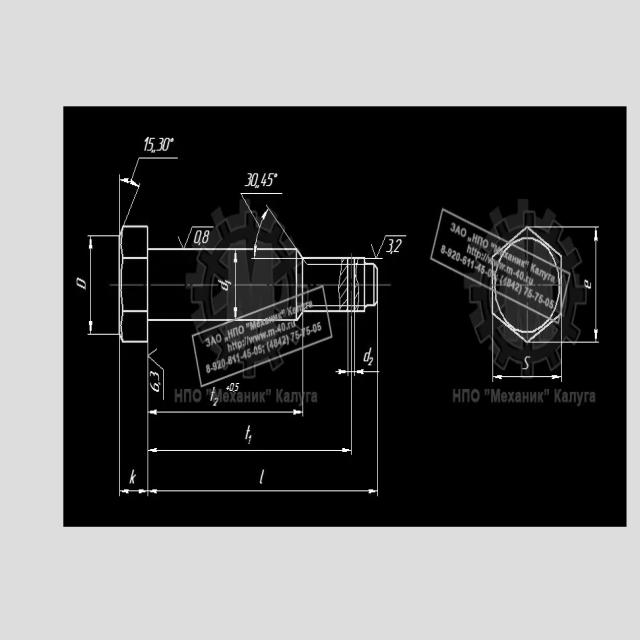marking_line: (149, 487, 377, 494), (149, 447, 350, 454), (148, 408, 302, 416), (87, 236, 94, 334), (593, 228, 599, 341), (233, 251, 239, 318), (496, 375, 561, 381), (120, 487, 148, 496), (355, 369, 377, 376), (335, 367, 347, 376)
numeric: (244, 168, 279, 189), (387, 237, 403, 255), (150, 370, 161, 395), (143, 134, 156, 153), (157, 137, 170, 152), (194, 230, 202, 245), (201, 229, 209, 244)
special_symbol: (237, 188, 299, 260), (130, 154, 180, 195), (148, 350, 167, 403)
